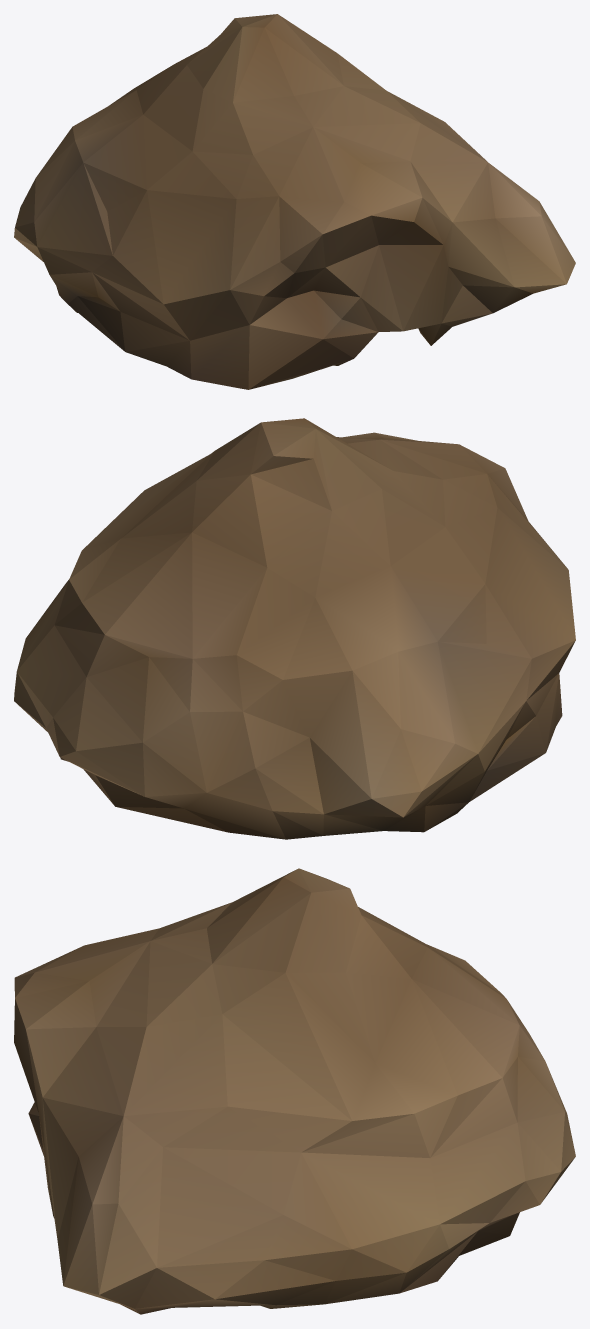
Rendered from study.glb.
The picture shows the model from 3 angles, top to bottom: view 1: azimuth 30°, elevation 25°; view 2: azimuth 150°, elevation 25°; view 3: azimuth 270°, elevation 25°; orthographic projection. The views are drawn at different scales.
Visible parts, largest first — view 1: model.001; view 2: model.001; view 3: model.001.
Part boxes in pixels (left/top/right/bottom): model.001: left=14, top=14, right=575, bottom=389; model.001: left=14, top=418, right=575, bottom=839; model.001: left=14, top=868, right=575, bottom=1314.
Size of the model in its own units: 1.02 by 0.6327 by 0.9947.
